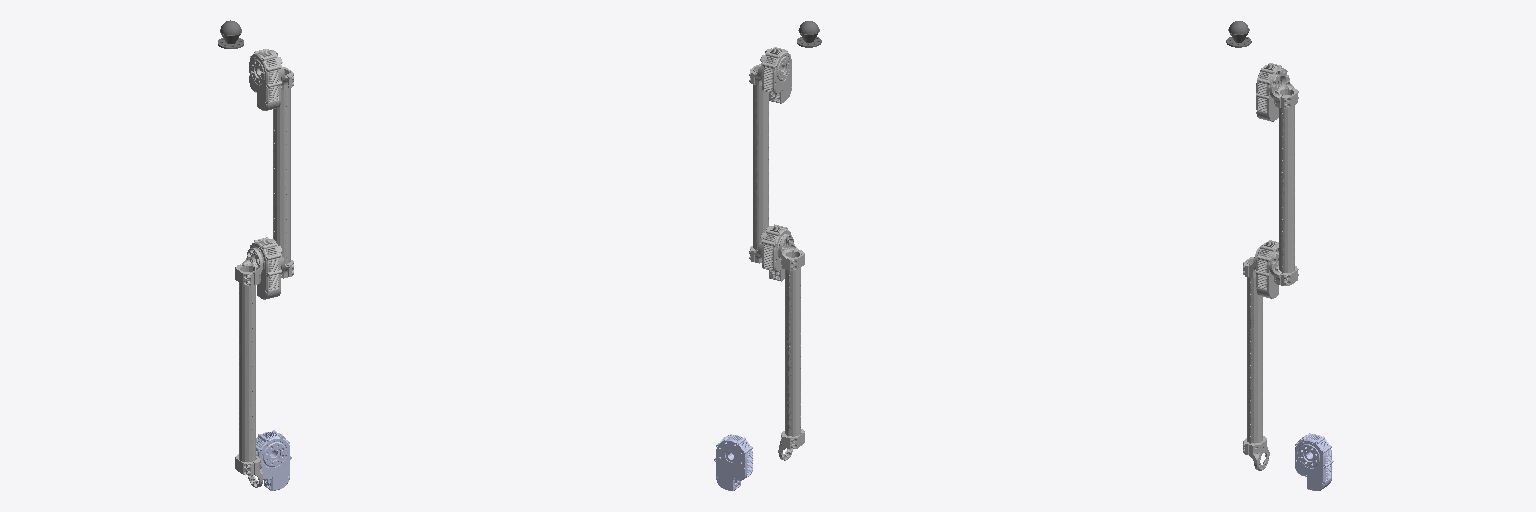
The robot description file, URDF, robot "shipbot_urdf":
<?xml version="1.0" encoding="utf-8"?>
<!-- This URDF was automatically created by SolidWorks to URDF Exporter! Originally created by [author] ([email redacted]) 
     Commit Version: 1.6.0-1-g15f4949  Build Version: 1.6.7594.29634
     For more information, please see http://wiki.ros.org/sw_urdf_exporter -->
<robot
  name="shipbot_urdf">
  <link
    name="link0">
    <inertial>
      <origin
        xyz="0.00229491428215301 0.00033379812623747 -0.0154857121766987"
        rpy="0 0 0" />
      <mass
        value="0.159501817678803" />
      <inertia
        ixx="8.44102418327143E-05"
        ixy="7.37059969004276E-08"
        ixz="4.57501855444665E-06"
        iyy="0.000133702392579779"
        iyz="-5.14045358890092E-08"
        izz="5.65734170944764E-05" />
    </inertial>
    <visual>
      <origin
        xyz="0 0 0"
        rpy="0 0 0" />
      <geometry>
        <mesh
          filename="package://shipbot_urdf/meshes/link0.STL" />
      </geometry>
      <material
        name="">
        <color
          rgba="0.792156862745098 0.819607843137255 0.933333333333333 1" />
      </material>
    </visual>
    <collision>
      <origin
        xyz="0 0 0"
        rpy="0 0 0" />
      <geometry>
        <mesh
          filename="package://shipbot_urdf/meshes/link0.STL" />
      </geometry>
    </collision>
  </link>
  <link
    name="link1">
    <inertial>
      <origin
        xyz="0.00897913200851211 0.0644194045134585 0.0430481867787289"
        rpy="0 0 0" />
      <mass
        value="0.236983684615599" />
      <inertia
        ixx="8.75248409147893E-05"
        ixy="-9.48848077558243E-06"
        ixz="3.28088278467079E-07"
        iyy="0.000119070793291938"
        iyz="-4.35936038741718E-07"
        izz="0.000186089828377507" />
    </inertial>
    <visual>
      <origin
        xyz="0 0 0"
        rpy="0 0 0" />
      <geometry>
        <mesh
          filename="package://shipbot_urdf/meshes/link1.STL" />
      </geometry>
      <material
        name="">
        <color
          rgba="0.792156862745098 0.819607843137255 0.933333333333333 1" />
      </material>
    </visual>
    <collision>
      <origin
        xyz="0 0 0"
        rpy="0 0 0" />
      <geometry>
        <mesh
          filename="package://shipbot_urdf/meshes/link1.STL" />
      </geometry>
    </collision>
  </link>
  <joint
    name="rotary1"
    type="revolute">
    <origin
      xyz="0 0 0"
      rpy="3.1416 1.5708 0" />
    <parent
      link="link0" />
    <child
      link="link1" />
    <axis
      xyz="0 0 1" />
    <limit
      lower="-1.57"
      upper="1.57"
      effort="7"
      velocity="2" />
  </joint>
  <link
    name="link2">
    <inertial>
      <origin
        xyz="0.212019577286543 -0.0707055312576384 0.0856748864948007"
        rpy="0 0 0" />
      <mass
        value="0.106988184234906" />
      <inertia
        ixx="2.53008670308476E-05"
        ixy="-6.59981024348689E-11"
        ixz="3.3983238247941E-11"
        iyy="0.00085049020237028"
        iyz="-6.16151850714375E-13"
        izz="0.000859153921810749" />
    </inertial>
    <visual>
      <origin
        xyz="0 0 0"
        rpy="0 0 0" />
      <geometry>
        <mesh
          filename="package://shipbot_urdf/meshes/link2.STL" />
      </geometry>
      <material
        name="">
        <color
          rgba="0.752941176470588 0.752941176470588 0.752941176470588 1" />
      </material>
    </visual>
    <collision>
      <origin
        xyz="0 0 0"
        rpy="0 0 0" />
      <geometry>
        <mesh
          filename="package://shipbot_urdf/meshes/link2.STL" />
      </geometry>
    </collision>
  </link>
  <joint
    name="rotary2"
    type="revolute">
    <origin
      xyz="0 0 0"
      rpy="0 0 3.1416" />
    <parent
      link="link1" />
    <child
      link="link2" />
    <axis
      xyz="0 0 1" />
    <limit
      lower="-1.57"
      upper="1.57"
      effort="7"
      velocity="2.2" />
  </joint>
  <link
    name="link3">
    <inertial>
      <origin
        xyz="-0.596068862099029 -0.0719864106325815 -0.0433776786706706"
        rpy="0 0 0" />
      <mass
        value="0.442028154005472" />
      <inertia
        ixx="0.000146153858990964"
        ixy="9.14999965820475E-06"
        ixz="-1.54224631119548E-06"
        iyy="0.00102822733945739"
        iyz="-1.47610731127277E-07"
        izz="0.0011426345502513" />
    </inertial>
    <visual>
      <origin
        xyz="0 0 0"
        rpy="0 0 0" />
      <geometry>
        <mesh
          filename="package://shipbot_urdf/meshes/link3.STL" />
      </geometry>
      <material
        name="">
        <color
          rgba="0.752941176470588 0.752941176470588 0.752941176470588 1" />
      </material>
    </visual>
    <collision>
      <origin
        xyz="0 0 0"
        rpy="0 0 0" />
      <geometry>
        <mesh
          filename="package://shipbot_urdf/meshes/link3.STL" />
      </geometry>
    </collision>
  </link>
  <joint
    name="rotary3"
    type="revolute">
    <origin
      xyz="0 0 0"
      rpy="3.1416 0 3.1416" />
    <parent
      link="link2" />
    <child
      link="link3" />
    <axis
      xyz="0 0 1" />
    <limit
      lower="-1.57"
      upper="1.57"
      effort="7"
      velocity="2.2" />
  </joint>
  <link
    name="link4">
    <inertial>
      <origin
        xyz="-0.0622068485470434 -0.116743813196765 -0.843087797291018"
        rpy="0 0 0" />
      <mass
        value="0.236983684646082" />
      <inertia
        ixx="8.75248406596663E-05"
        ixy="9.48848335855611E-06"
        ixz="-3.28088278854559E-07"
        iyy="0.000119070793706901"
        iyz="-4.35936053696684E-07"
        izz="0.000186089828536701" />
    </inertial>
    <visual>
      <origin
        xyz="0 0 0"
        rpy="0 0 0" />
      <geometry>
        <mesh
          filename="package://shipbot_urdf/meshes/link4.STL" />
      </geometry>
      <material
        name="">
        <color
          rgba="0.792156862745098 0.819607843137255 0.933333333333333 1" />
      </material>
    </visual>
    <collision>
      <origin
        xyz="0 0 0"
        rpy="0 0 0" />
      <geometry>
        <mesh
          filename="package://shipbot_urdf/meshes/link4.STL" />
      </geometry>
    </collision>
  </link>
  <joint
    name="rotary4"
    type="revolute">
    <origin
      xyz="0 0 0"
      rpy="1.5708 0 1.5708" />
    <parent
      link="link3" />
    <child
      link="link4" />
    <axis
      xyz="0 0 1" />
    <limit
      lower="-1.57"
      upper="1.57"
      effort="7"
      velocity="2.2" />
  </joint>
  <link
    name="link5">
    <inertial>
      <origin
        xyz="-0.0182418735768112 0.140722679563569 0.891772257382688"
        rpy="0 0 0" />
      <mass
        value="0.0222650078147918" />
      <inertia
        ixx="2.96649808571935E-06"
        ixy="-7.41153828847513E-22"
        ixz="-1.05388523120848E-20"
        iyy="2.96649808571935E-06"
        iyz="9.69337532747787E-21"
        izz="4.30294027693138E-06" />
    </inertial>
    <visual>
      <origin
        xyz="0 0 0"
        rpy="0 0 0" />
      <geometry>
        <mesh
          filename="package://shipbot_urdf/meshes/link5.STL" />
      </geometry>
      <material
        name="">
        <color
          rgba="0.501960784313725 0.501960784313725 0.501960784313725 1" />
      </material>
    </visual>
    <collision>
      <origin
        xyz="0 0 0"
        rpy="0 0 0" />
      <geometry>
        <mesh
          filename="package://shipbot_urdf/meshes/link5.STL" />
      </geometry>
    </collision>
  </link>
  <joint
    name="rotary5"
    type="revolute">
    <origin
      xyz="0 0 0"
      rpy="3.1416 0 -0.3927" />
    <parent
      link="link4" />
    <child
      link="link5" />
    <axis
      xyz="0 0 1" />
    <limit
      lower="-1.57"
      upper="1.57"
      effort="7"
      velocity="2.2" />
  </joint>
</robot>

--- Facts derived from the render (not from the file) ---
Views: 3 orthographic renders of the robot side by side, from view 1: azimuth 30°, elevation 25°; view 2: azimuth 150°, elevation 25°; view 3: azimuth 330°, elevation 25°.
Model shipbot_urdf with 6 links and 5 joints (5 revolute), rooted at link0, posed all joints at 0.
Visible links, largest first — view 1: link3, link2, link0, link5; view 2: link3, link2, link0; view 3: link3, link2, link0.
Boxes of the visible links, left/top/right/bottom form: link3: left=249, top=49, right=293, bottom=299; link2: left=235, top=248, right=262, bottom=487; link0: left=255, top=430, right=291, bottom=490; link5: left=218, top=20, right=243, bottom=48; link3: left=749, top=47, right=791, bottom=281; link2: left=778, top=234, right=804, bottom=460; link0: left=714, top=434, right=752, bottom=490; link3: left=1256, top=63, right=1298, bottom=298; link2: left=1243, top=245, right=1269, bottom=470; link0: left=1295, top=433, right=1333, bottom=490.
Size in the robot's own frame: 0.1841 by 0.1225 by 0.9861 metres.
4 mesh visuals loaded from 6 distinct referenced files (4 binary STL); not drawn: 2 (reference not matched to a file when rendering).